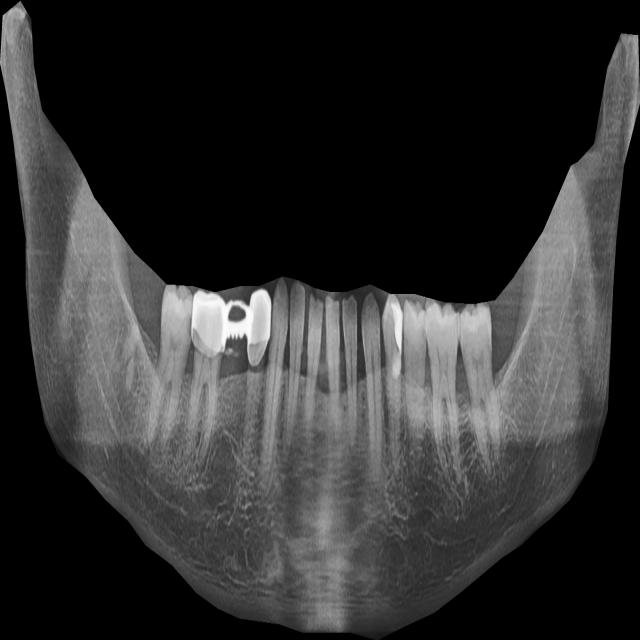mandibula: (0, 1, 640, 640)
